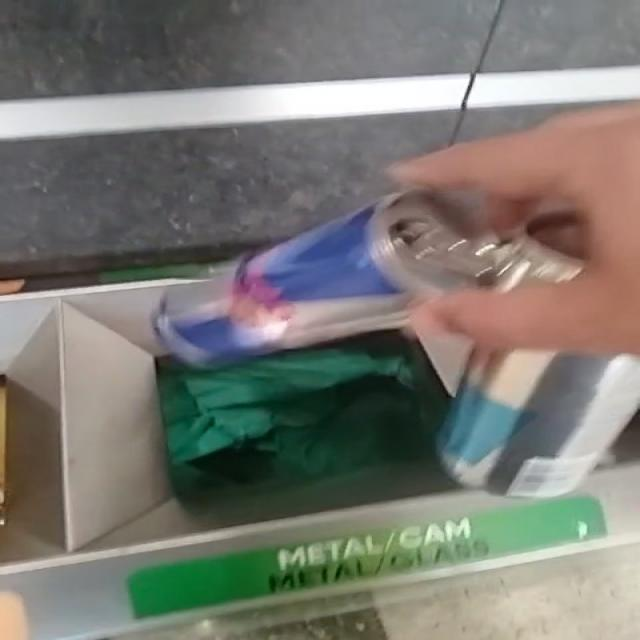bin: (0, 280, 458, 552)
metal: (155, 189, 584, 368), (416, 329, 639, 498)
